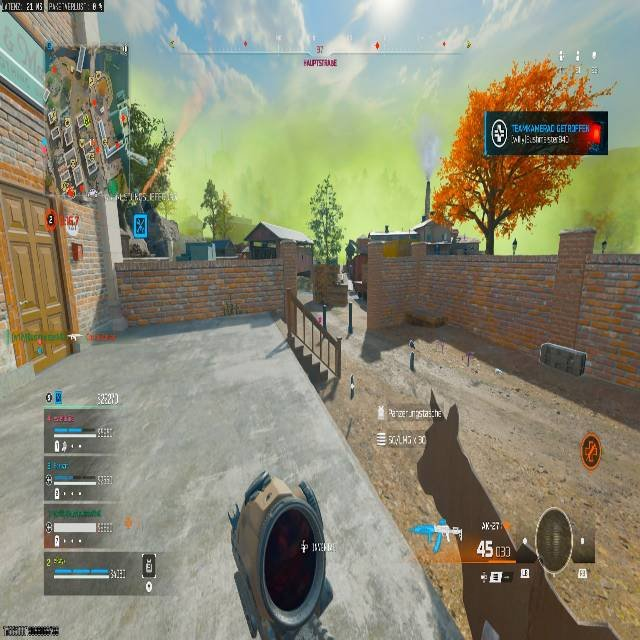head: (205, 180, 217, 194)
player: (199, 180, 230, 242)
